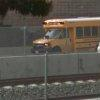buses: (32, 18, 99, 56)
